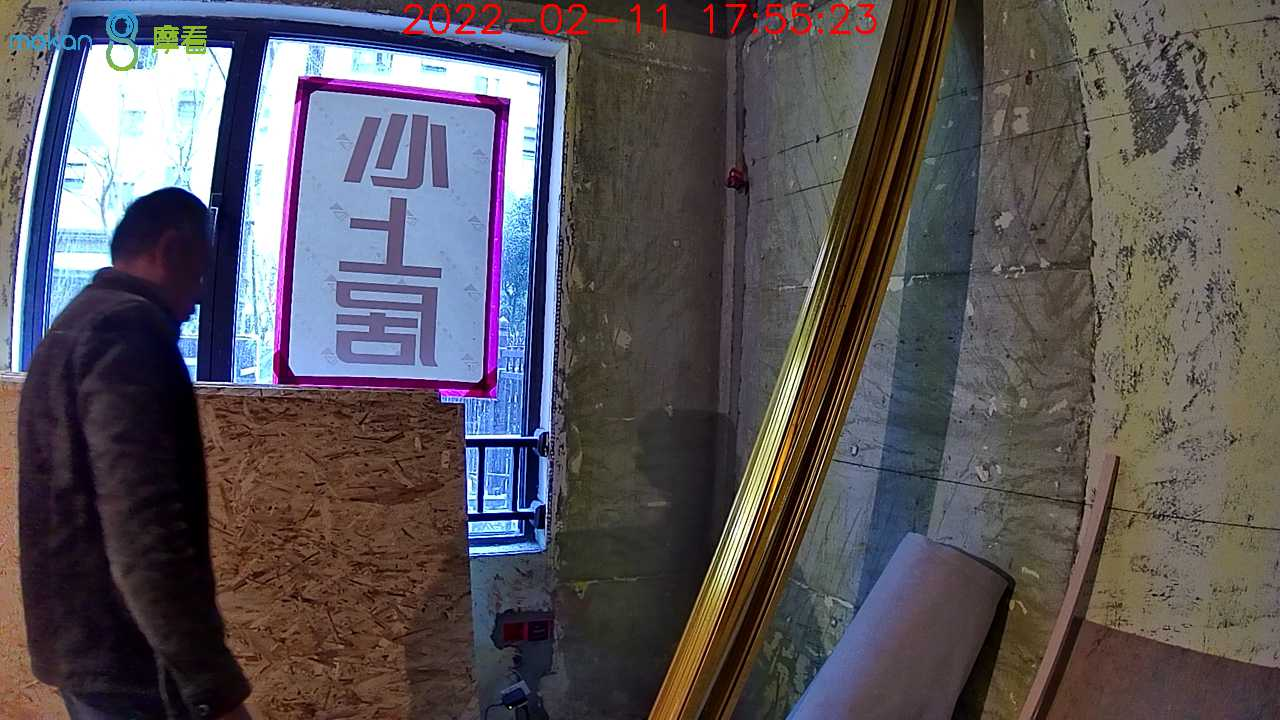people: (20, 187, 263, 720)
window: (29, 21, 546, 551)
